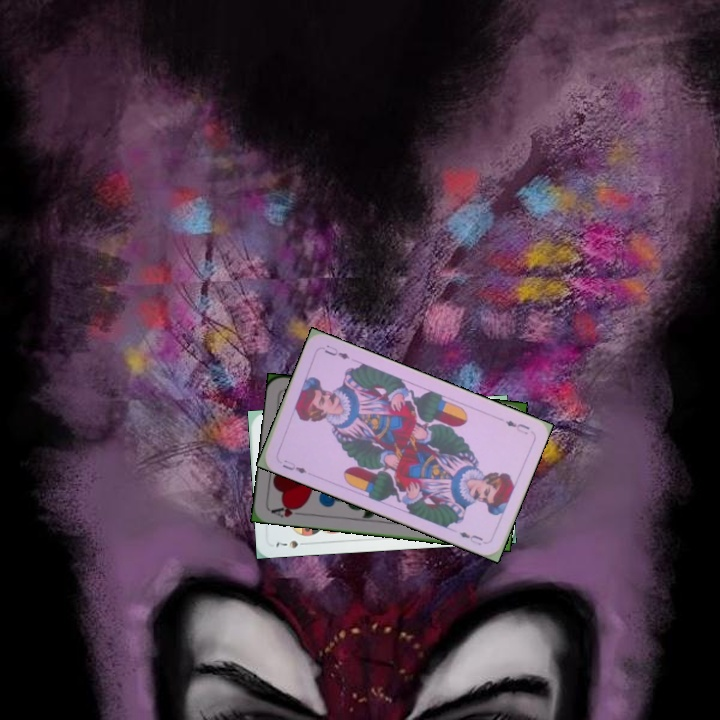EU: (501, 416, 532, 437), (278, 456, 309, 476)
HA: (267, 500, 308, 520)
S7: (272, 537, 311, 551)
